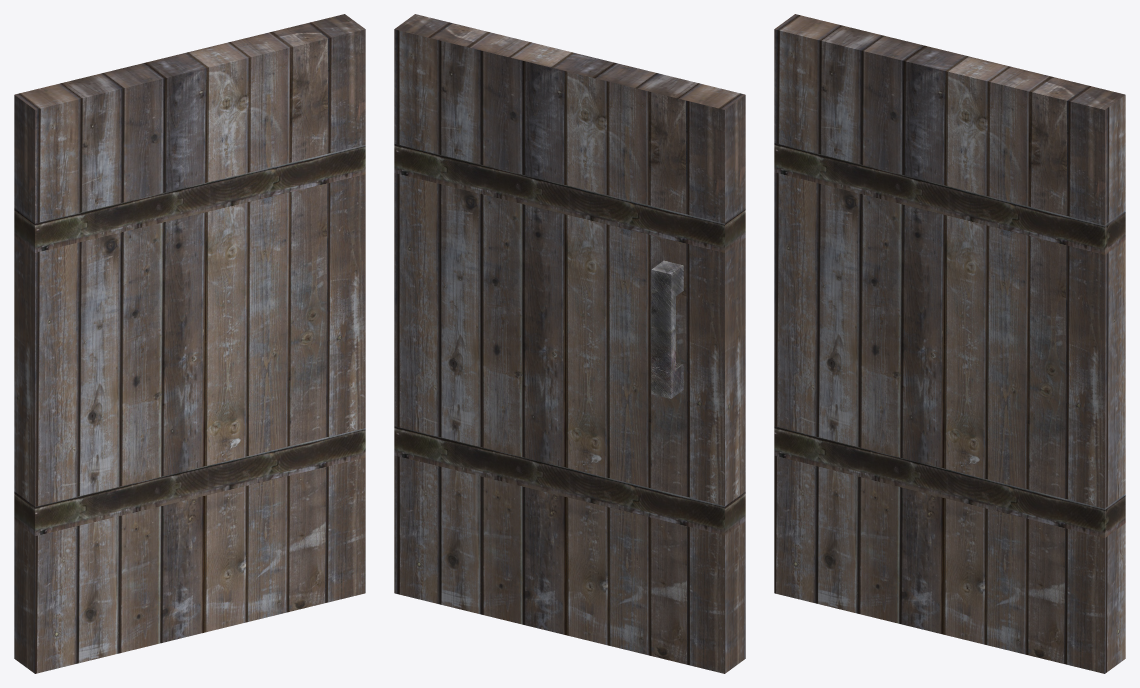
The model's file is door.FBX.
The picture shows the model from 3 angles, left to right: view 1: azimuth 30°, elevation 25°; view 2: azimuth 150°, elevation 25°; view 3: azimuth 330°, elevation 25°; orthographic projection.
Visible parts, largest first — view 1: Box011; view 2: Box011; view 3: Box011.
Part boxes in pixels (x1=…): Box011: x1=14, y1=14, x2=365, y2=673; Box011: x1=394, y1=14, x2=745, y2=673; Box011: x1=774, y1=14, x2=1125, y2=673.
Size of the model in its own units: 56.05 by 91.36 by 9.81.
Materials: 1 (1 with a texture image).
